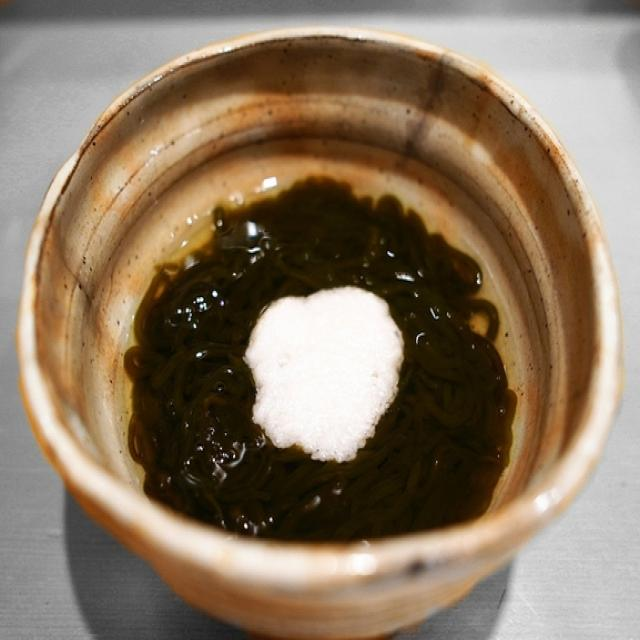蔬菜料理: (45, 44, 596, 594)
